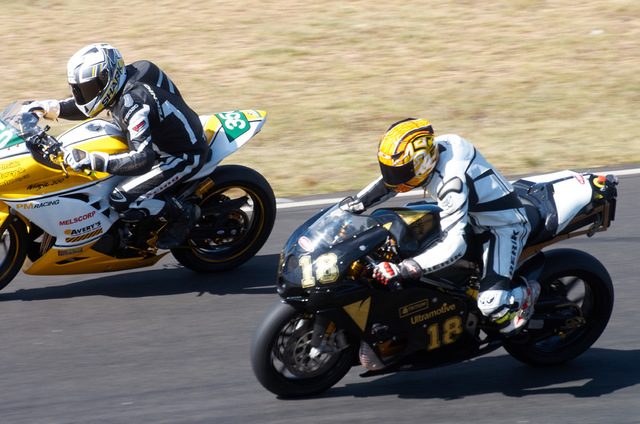helmet: (379, 115, 442, 186), (65, 49, 133, 101)
